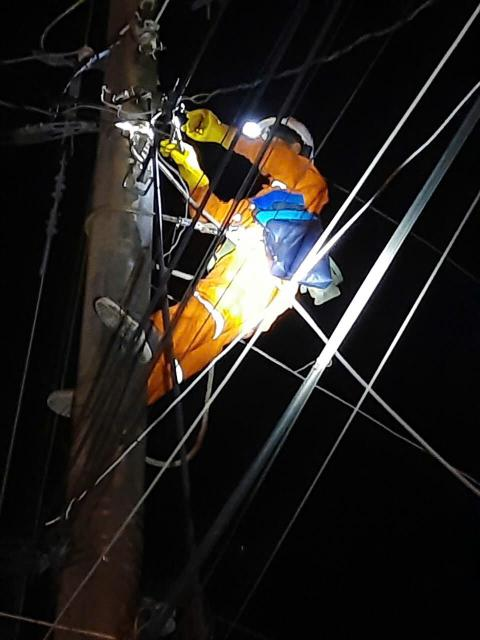gloves: (156, 134, 218, 193), (172, 106, 248, 151)
harness: (216, 212, 310, 285)
helmet: (249, 111, 325, 163)
shoes: (94, 287, 168, 361), (43, 378, 114, 425)
